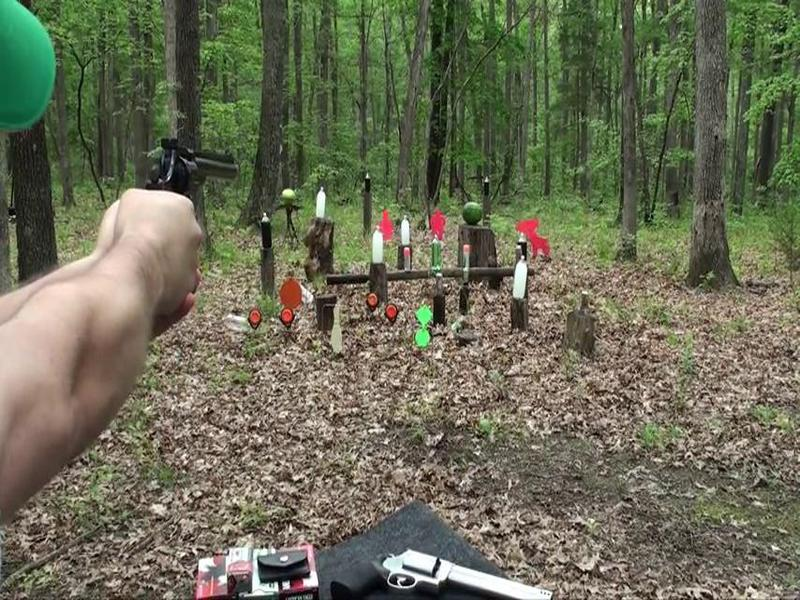Revolver: (122, 134, 249, 224)
